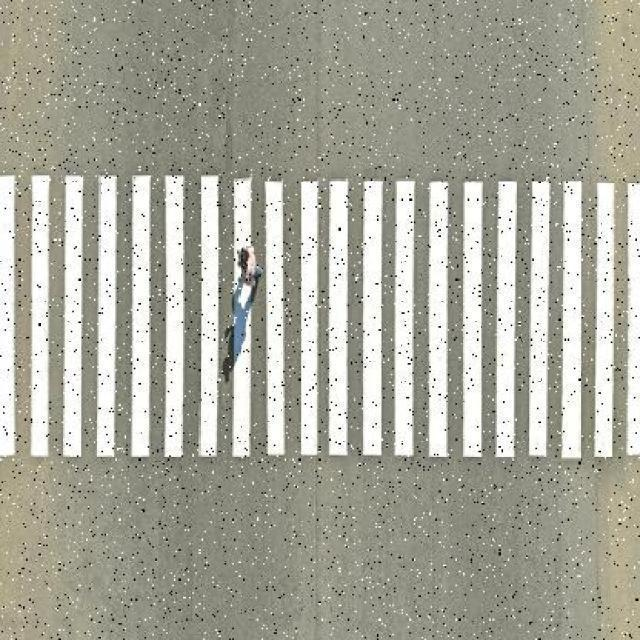crosswalk: (0, 176, 638, 458)
